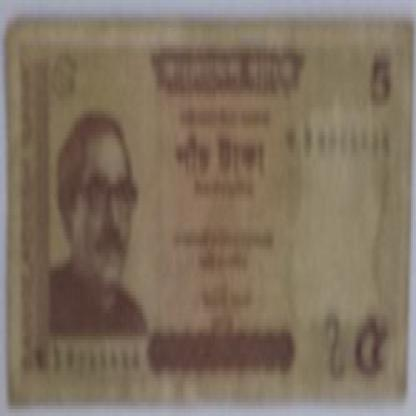Five Taka: (165, 125, 273, 194), (350, 305, 390, 388), (45, 28, 80, 118), (361, 38, 394, 125)
